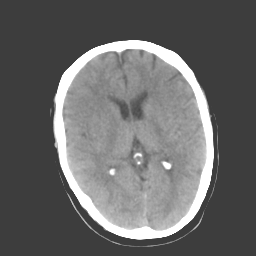ischemic: (64, 101, 117, 154)
